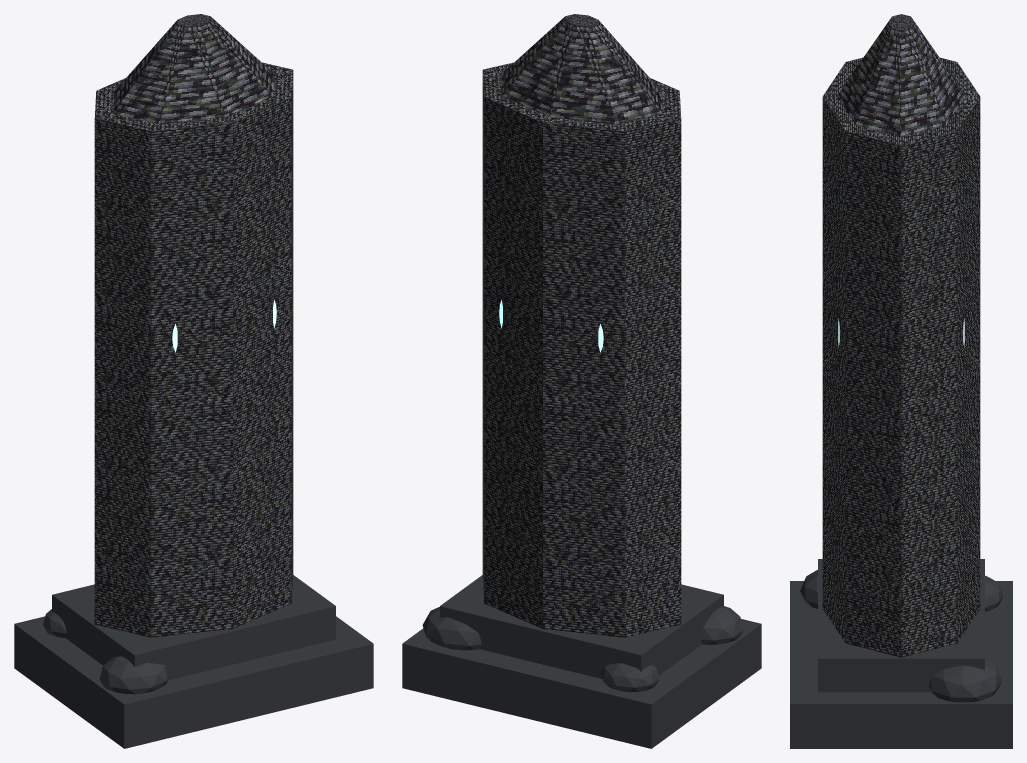
File: piedra_eco.glb
The picture shows the model from 3 angles, left to right: view 1: azimuth 30°, elevation 25°; view 2: azimuth 150°, elevation 25°; view 3: azimuth 270°, elevation 25°; orthographic projection.
Visible parts, largest first — view 1: Cylinder, Cube, Cube.001, Cone, Icosphere.002; view 2: Cylinder, Cube, Cone, Cube.001, Icosphere.003, Icosphere.004, Icosphere.002; view 3: Cylinder, Cube, Cone, Cube.001, Icosphere.003, Icosphere.002, Icosphere.004.
Part boxes in pixels (x1,y1,x2,y2): Cylinder: [94, 62, 293, 637]; Cube: [14, 616, 373, 748]; Cube.001: [52, 575, 335, 680]; Cone: [113, 14, 274, 124]; Icosphere.002: [99, 656, 168, 694]; Cylinder: [482, 62, 681, 637]; Cube: [402, 619, 761, 748]; Cone: [501, 14, 662, 124]; Cube.001: [440, 575, 723, 678]; Icosphere.003: [422, 607, 481, 650]; Icosphere.004: [601, 663, 659, 692]; Icosphere.002: [701, 606, 743, 644]; Cylinder: [822, 57, 980, 657]; Cube: [790, 581, 1012, 748]; Cone: [837, 14, 965, 136]; Cube.001: [818, 559, 984, 692]; Icosphere.003: [929, 657, 1002, 702]; Icosphere.002: [800, 570, 817, 608]; Icosphere.004: [985, 575, 1003, 611].
Bounding box in the file's own units: 0.94 × 2.37 × 0.72.
4 materials, 1 textured.
